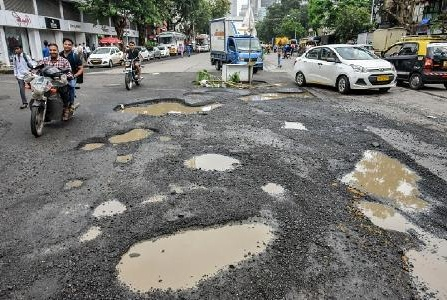pothole: (112, 212, 279, 293), (337, 145, 444, 233), (401, 236, 447, 300), (112, 94, 225, 117), (184, 148, 242, 173), (236, 89, 313, 103), (106, 123, 157, 144), (90, 194, 126, 217), (76, 222, 104, 241), (78, 135, 106, 152), (60, 175, 86, 193), (282, 118, 310, 132), (260, 180, 288, 193), (114, 151, 136, 162)
